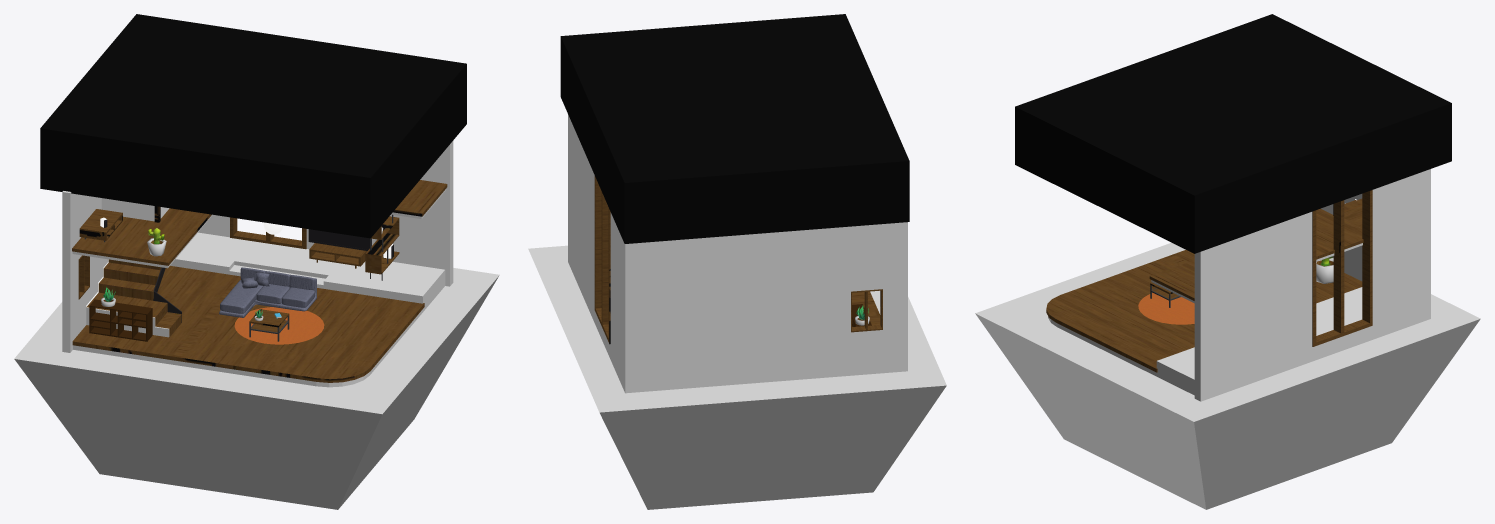
File: Modern_House.gltf
3 views of the same model, side by side, from view 1: azimuth 30°, elevation 25°; view 2: azimuth 150°, elevation 25°; view 3: azimuth 270°, elevation 25° (orthographic). The views are drawn at different scales.
Parts seen in each view (by area): view 1: Roof, HouseVoidBase, House_Ground, Walls, House_Stairs, 2ndFloor, Sofa, Stairs, Library, FloorMat, Librero, Table_01 (+5 smaller); view 2: Roof, Walls, HouseVoidBase, Window, SmallWindow; view 3: Roof, HouseVoidBase, Walls, House_Ground, Window, 2ndFloor, House_Stairs, FloorMat.
Boxes of the visible parts, bbox=[...] form: Roof: bbox=[40, 14, 466, 238]; HouseVoidBase: bbox=[14, 268, 499, 509]; House_Ground: bbox=[72, 265, 424, 387]; Walls: bbox=[62, 141, 453, 352]; House_Stairs: bbox=[170, 232, 445, 311]; 2ndFloor: bbox=[72, 180, 447, 268]; Sofa: bbox=[219, 267, 316, 317]; Stairs: bbox=[86, 259, 181, 337]; Library: bbox=[89, 299, 152, 341]; FloorMat: bbox=[234, 307, 324, 344]; Librero: bbox=[365, 214, 399, 280]; Table_01: bbox=[309, 243, 367, 268]; Roof: bbox=[560, 14, 909, 243]; Walls: bbox=[568, 114, 907, 393]; HouseVoidBase: bbox=[528, 245, 946, 509]; Window: bbox=[594, 176, 610, 344]; SmallWindow: bbox=[851, 289, 882, 332]; Roof: bbox=[1015, 14, 1451, 253]; HouseVoidBase: bbox=[975, 242, 1480, 509]; Walls: bbox=[1194, 169, 1430, 401]; House_Ground: bbox=[1046, 250, 1362, 376]; Window: bbox=[1312, 190, 1372, 346]; 2ndFloor: bbox=[1149, 208, 1363, 303]; House_Stairs: bbox=[1156, 287, 1362, 395]; FloorMat: bbox=[1138, 293, 1194, 324].
Size of the model in its own units: 15.6 by 11.54 by 15.74.
Materials: 18 (5 with a texture image).
